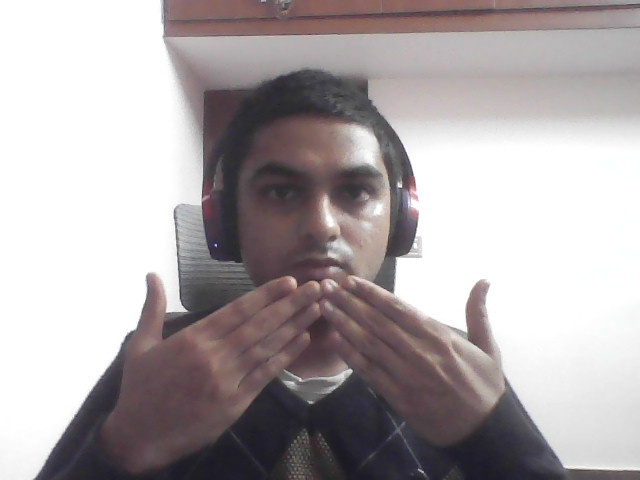Thank You: (71, 255, 541, 469)
